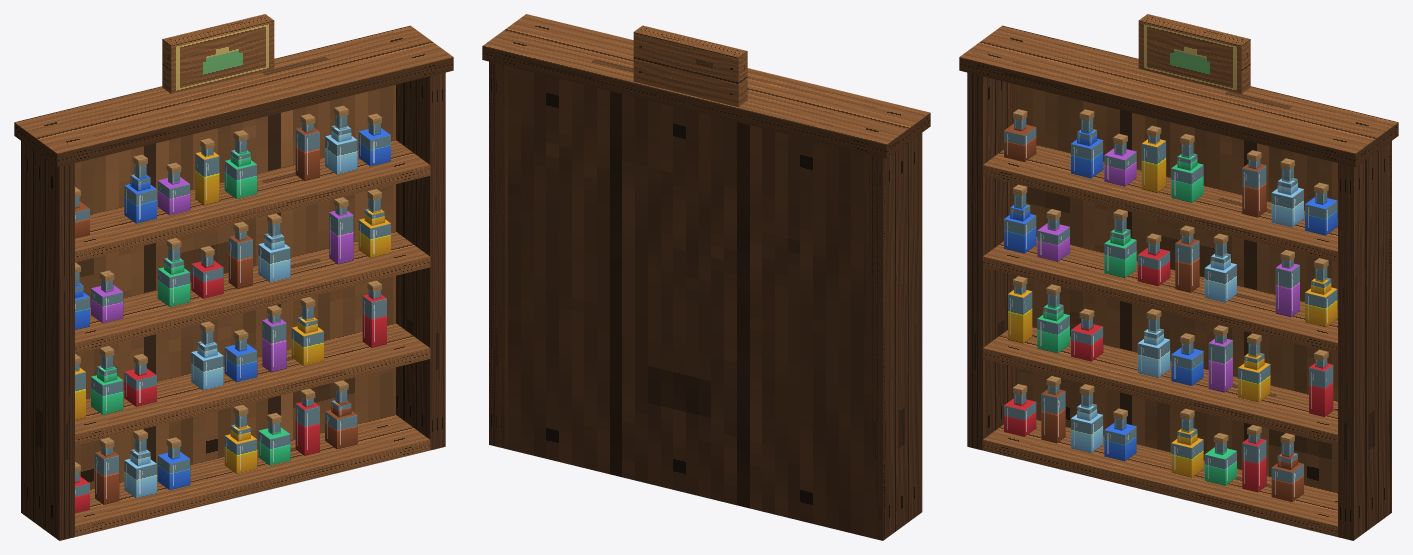
The model's file is potion_rack.glb.
The picture shows the model from 3 angles, left to right: view 1: azimuth 30°, elevation 25°; view 2: azimuth 150°, elevation 25°; view 3: azimuth 330°, elevation 25°; orthographic projection. The views are drawn at different scales.
Visible parts, largest first — view 1: root; view 2: root; view 3: root.
Boxes of the visible parts, box(x1,y1,x2,y2) form: root: box(14, 14, 453, 540); root: box(482, 14, 930, 540); root: box(959, 14, 1398, 540).
Bounding box in the file's own units: 208 × 220 × 39.15.
Materials: 1 (1 with a texture image).
